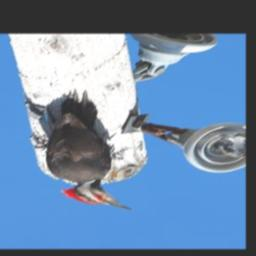Woodpecker: (24, 91, 140, 212)
